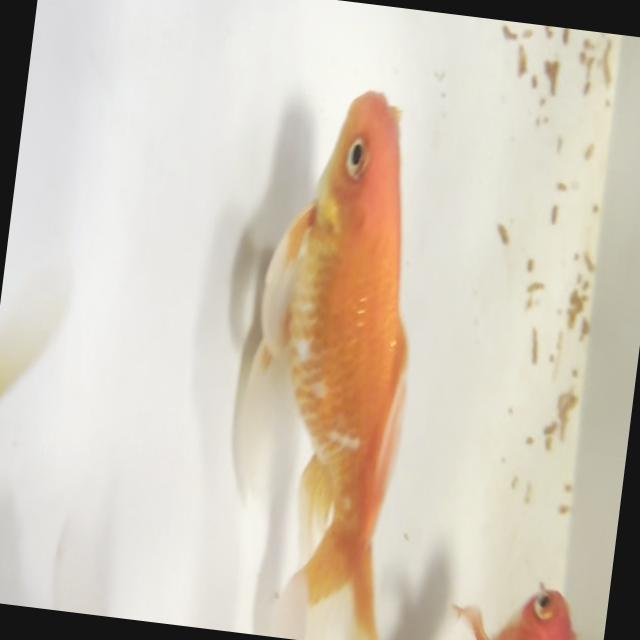fish: (221, 74, 450, 640), (52, 489, 351, 640), (381, 565, 588, 640)
